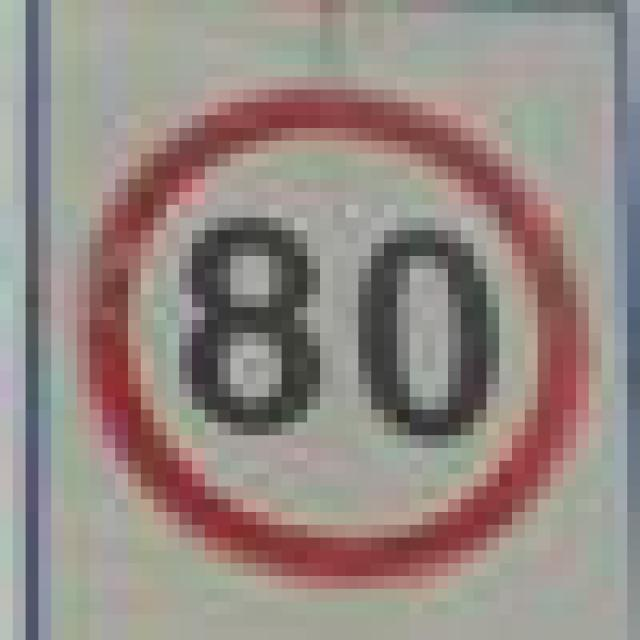speed_limit_50: (64, 77, 576, 576)
